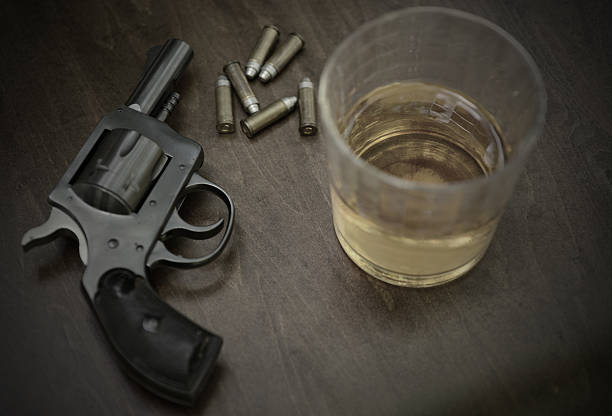alcohol: (316, 4, 548, 290)
gun: (16, 39, 233, 405)
